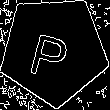P_N: (30, 21, 78, 80)
